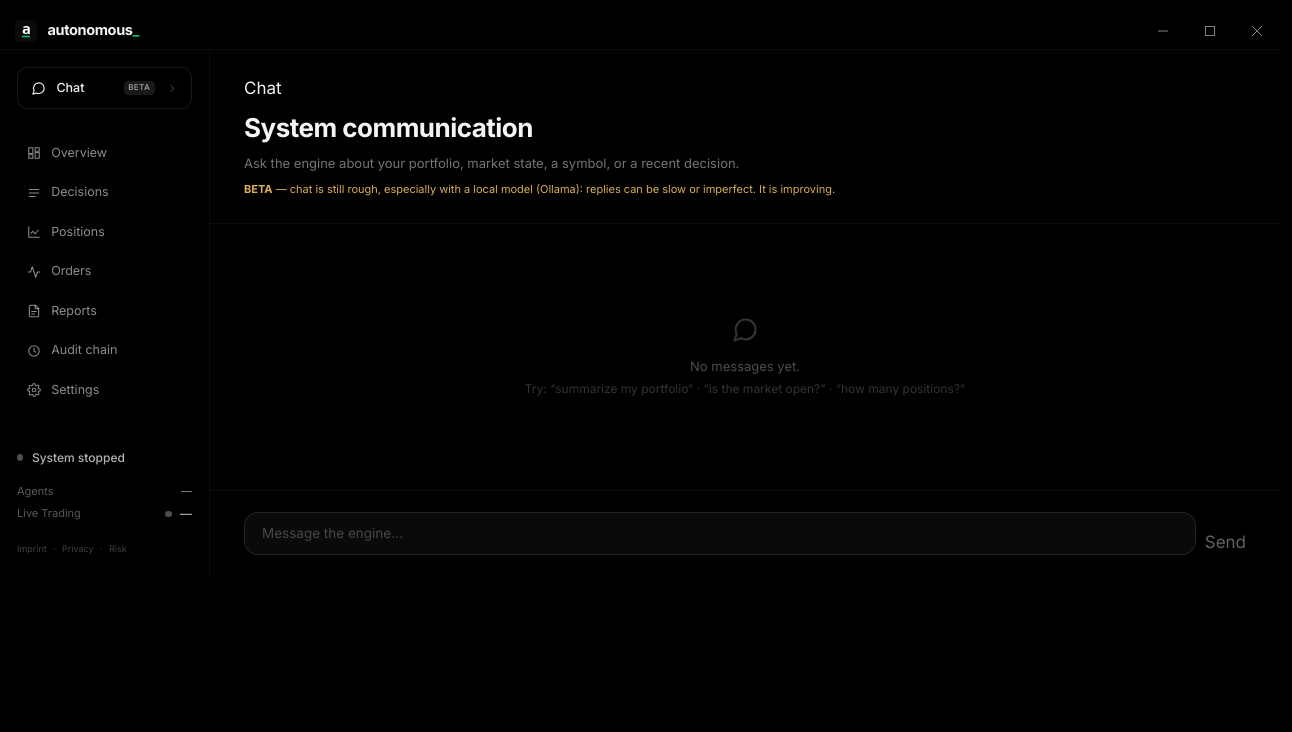
Scenario: Journey · Support (ask the engine) › a multi-turn conversation keeps the full transcript
Type "is the market open?" into the text box with placeholder "Message the engine…" at [720, 534], box [244,512,1196,555]
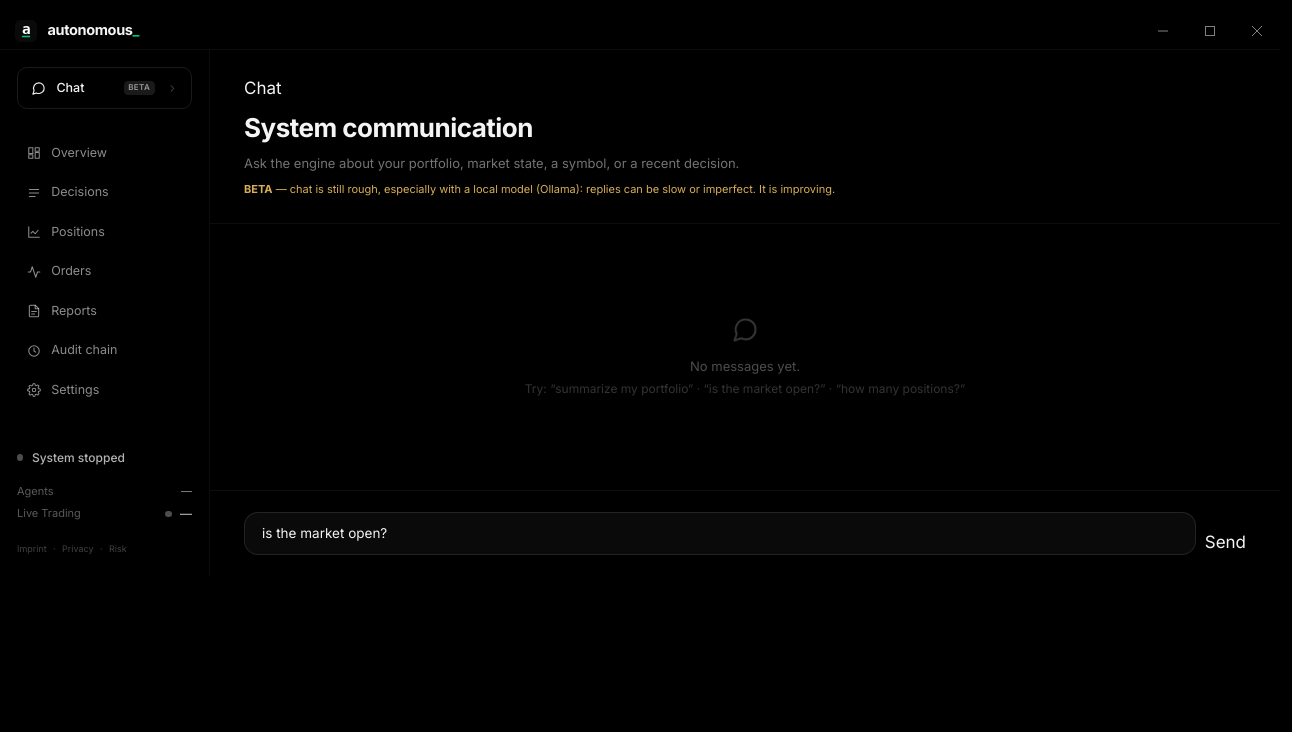
Click the button "Send" at [1225, 543], box [1205,530,1246,555]
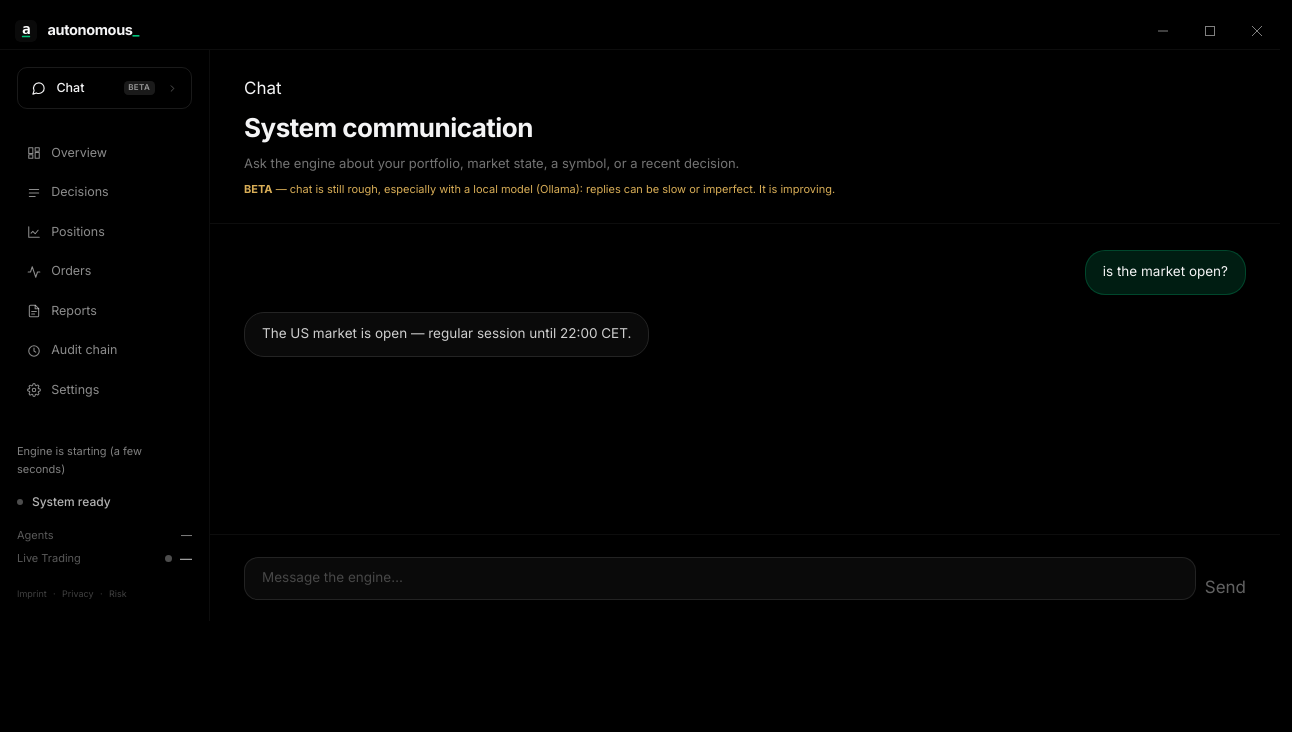
Check: the text "The US market is open — regular session until 22:00 CET." is shown, box [244,312,649,357]
Type "how many positions do I hold?" into the text box with placeholder "Message the engine…" at [720, 578], box [244,557,1196,600]
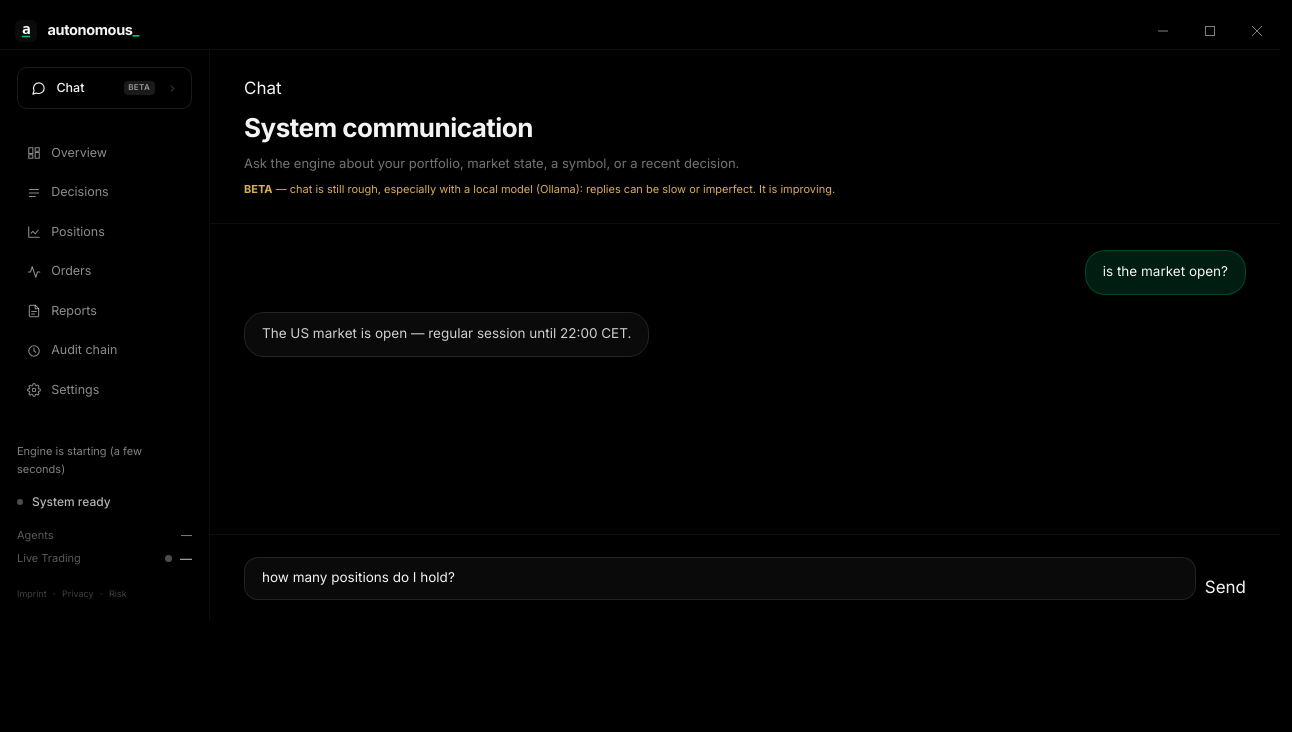
Click the button "Send" at [1225, 587], box [1205,575,1246,600]
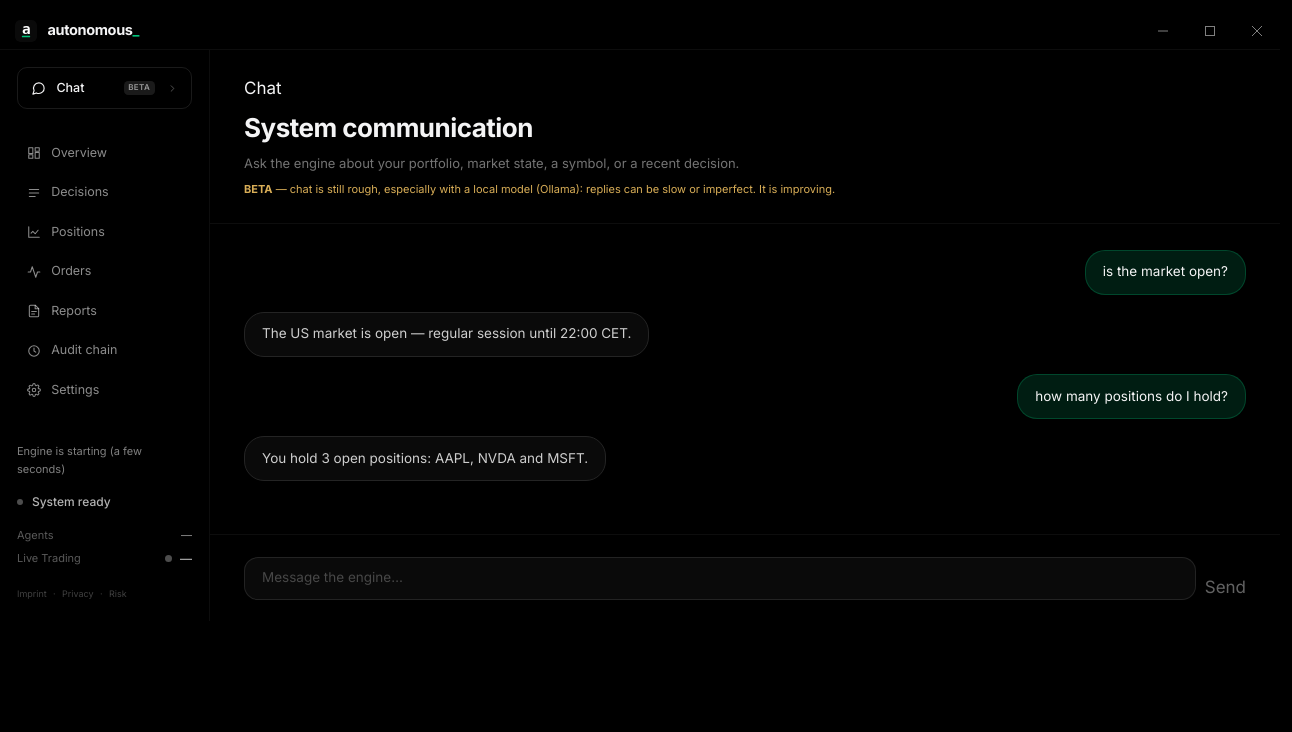
Check: the text "The US market is open — regular session until 22:00 CET." is shown, box [244,312,649,357]
Check: the text "You hold 3 open positions: AAPL, NVDA and MSFT." is shown, box [244,436,606,481]
Check: the text "how many positions do I hold?" is shown, box [1017,374,1246,419]
